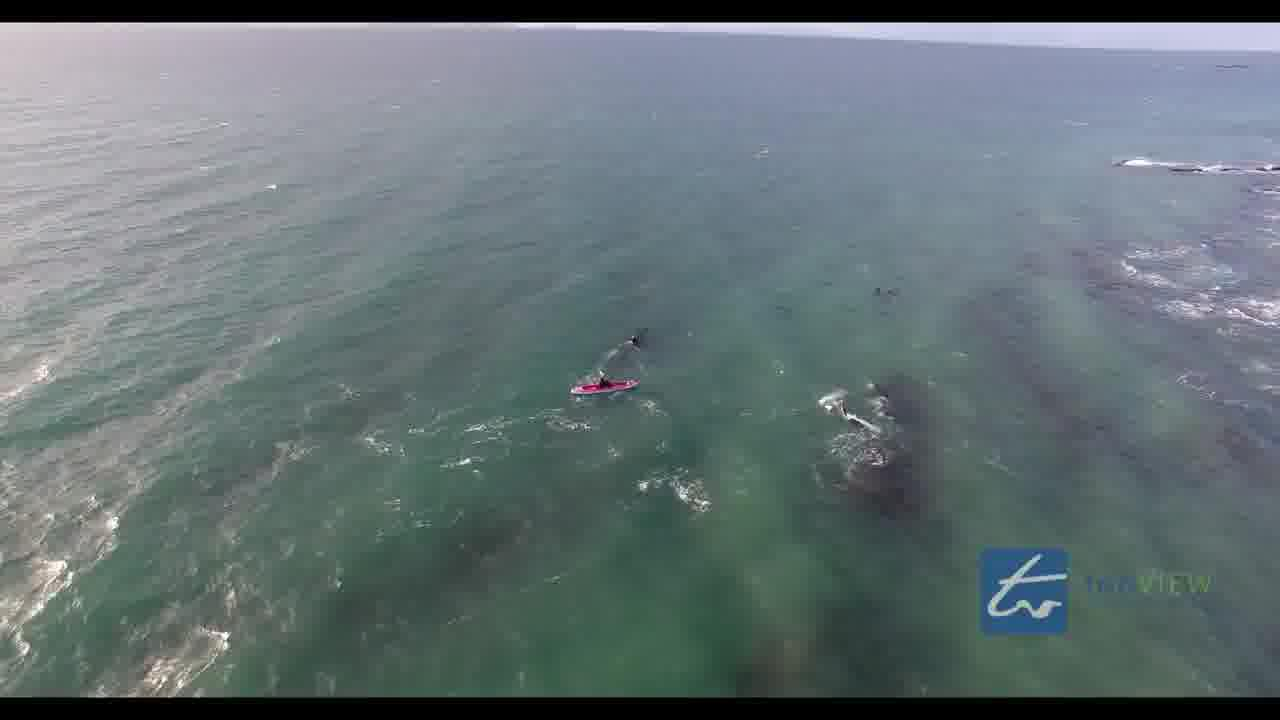swimmer: (825, 394, 890, 447)
